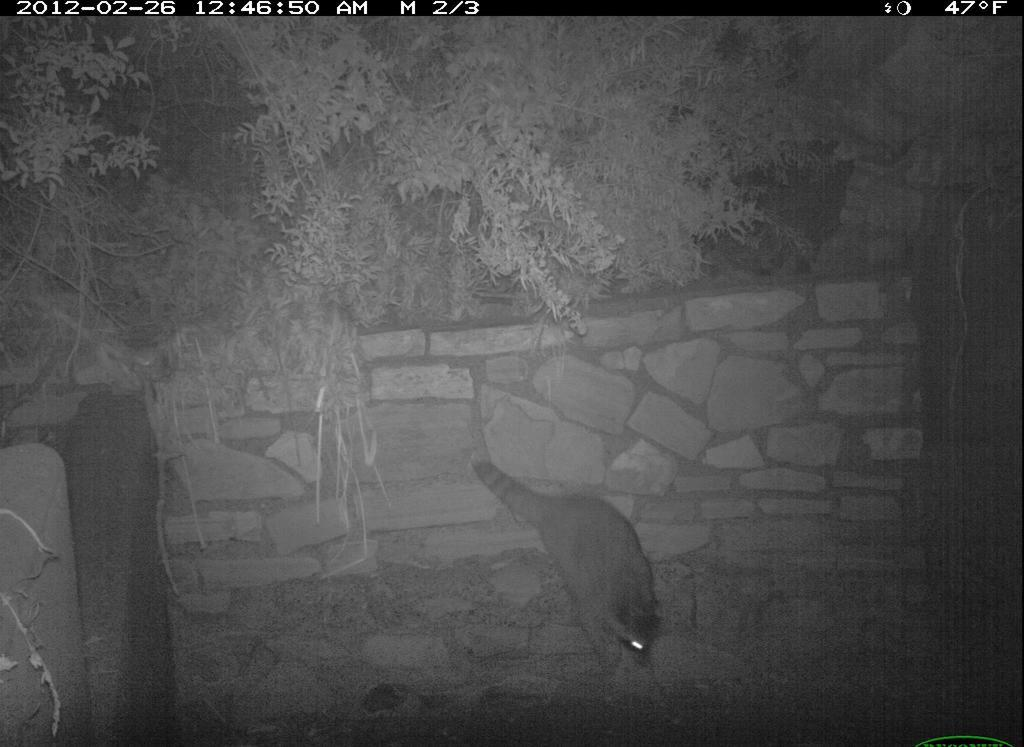raccoon: (466, 449, 685, 680)
